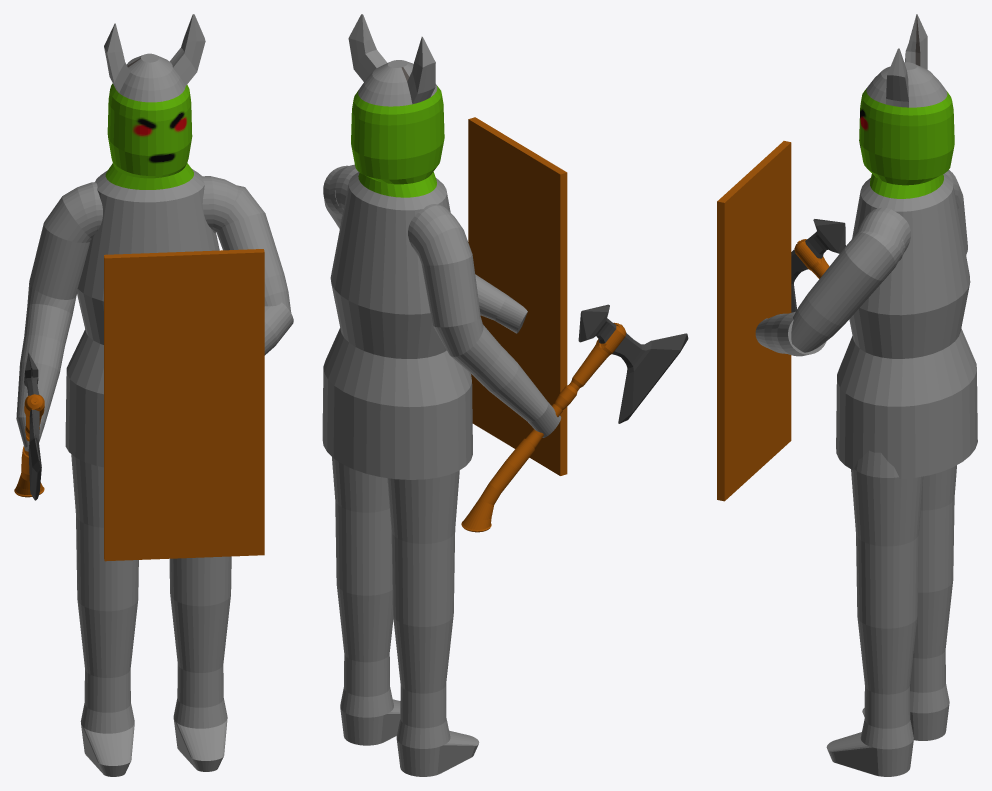
The model's file is ОркРыцарь0.fbx.
The picture shows the model from 3 angles, left to right: view 1: azimuth 30°, elevation 25°; view 2: azimuth 150°, elevation 25°; view 3: azimuth 270°, elevation 25°; orthographic projection.
Parts seen in each view (by area): view 1: Куб.020, Цилиндр.084, Цилиндр.183, Цилиндр.180, Цилиндр.181, Цилиндр.164, Цилиндр.094, Цилиндр.179, Цилиндр.182, Куб.021, Цилиндр.086, Цилиндр.085 (+1 smaller); view 2: Цилиндр.084, Куб.020, Цилиндр.181, Цилиндр.180, Куб.021, Цилиндр.183, Цилиндр.182, Цилиндр.164, Цилиндр.094, Цилиндр.165, Цилиндр.086, Цилиндр.085; view 3: Цилиндр.084, Куб.020, Цилиндр.182, Цилиндр.183, Цилиндр.179, Цилиндр.180, Цилиндр.181, Куб.021, Цилиндр.165, Цилиндр.085.
Boxes of the visible parts, <box> form: Куб.020: <box>104,249,264,561</box>; Цилиндр.084: <box>65,14,219,467</box>; Цилиндр.183: <box>170,595,230,771</box>; Цилиндр.180: <box>77,600,138,776</box>; Цилиндр.181: <box>71,454,138,611</box>; Цилиндр.164: <box>27,196,91,315</box>; Цилиндр.094: <box>16,304,72,451</box>; Цилиндр.179: <box>216,185,291,312</box>; Цилиндр.182: <box>169,556,231,606</box>; Куб.021: <box>14,352,44,500</box>; Цилиндр.086: <box>62,182,102,238</box>; Цилиндр.085: <box>202,176,238,232</box>; Цилиндр.084: <box>322,14,472,479</box>; Куб.020: <box>468,117,567,475</box>; Цилиндр.181: <box>387,470,459,626</box>; Цилиндр.180: <box>393,615,479,776</box>; Куб.021: <box>461,304,688,532</box>; Цилиндр.183: <box>336,584,400,745</box>; Цилиндр.182: <box>332,457,392,595</box>; Цилиндр.164: <box>418,227,483,356</box>; Цилиндр.094: <box>451,324,561,437</box>; Цилиндр.165: <box>475,274,527,333</box>; Цилиндр.086: <box>408,204,462,255</box>; Цилиндр.085: <box>329,164,358,214</box>; Цилиндр.084: <box>836,14,977,478</box>; Куб.020: <box>717,141,791,501</box>; Цилиндр.182: <box>851,450,923,628</box>; Цилиндр.183: <box>826,616,917,776</box>; Цилиндр.179: <box>791,231,904,352</box>; Цилиндр.180: <box>862,582,952,740</box>; Цилиндр.181: <box>918,465,956,592</box>; Куб.021: <box>791,219,845,312</box>; Цилиндр.165: <box>755,311,826,356</box>; Цилиндр.085: <box>856,207,910,260</box>.
Bounding box in the file's own units: 50.29 × 120 × 39.29.
